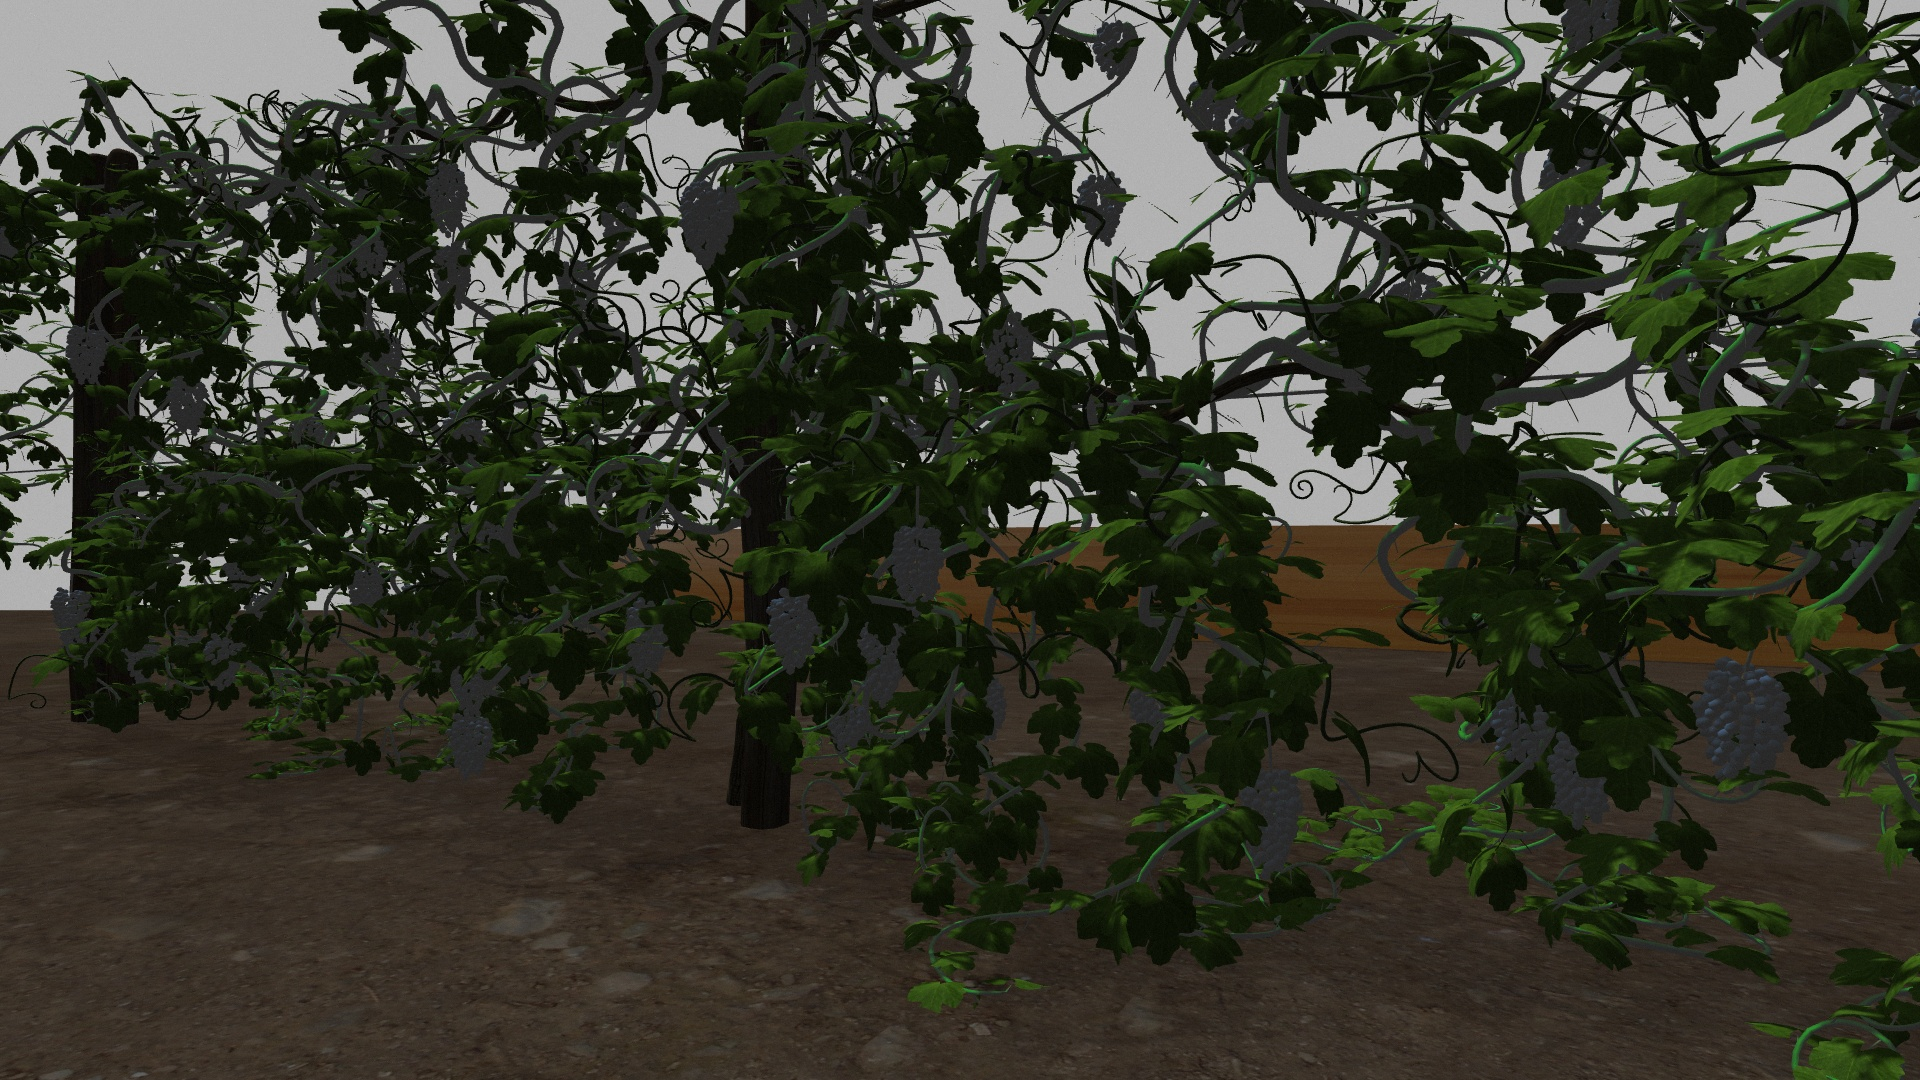grape: (1700, 661, 1793, 783), (1240, 766, 1305, 881), (1549, 735, 1611, 831), (764, 588, 824, 679), (887, 520, 947, 611), (679, 181, 738, 269), (1490, 688, 1552, 769), (856, 621, 907, 708), (981, 313, 1035, 392), (622, 597, 669, 680), (1079, 173, 1126, 247), (426, 158, 469, 237), (446, 716, 495, 781), (433, 244, 473, 309), (65, 324, 107, 386), (166, 376, 208, 436), (1095, 21, 1139, 78), (50, 585, 92, 644), (448, 661, 492, 713), (1126, 690, 1168, 744), (825, 708, 873, 752), (978, 678, 1009, 744), (351, 233, 388, 280), (347, 568, 386, 608), (203, 633, 244, 665)
